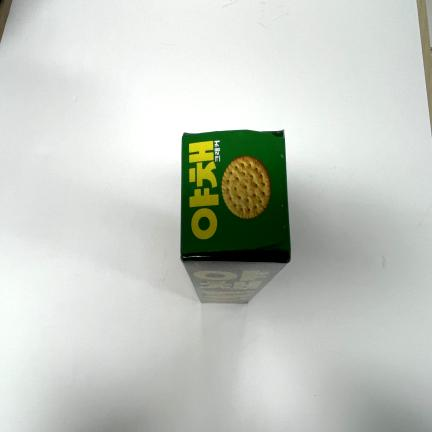cracker_vege: (181, 130, 290, 303)
